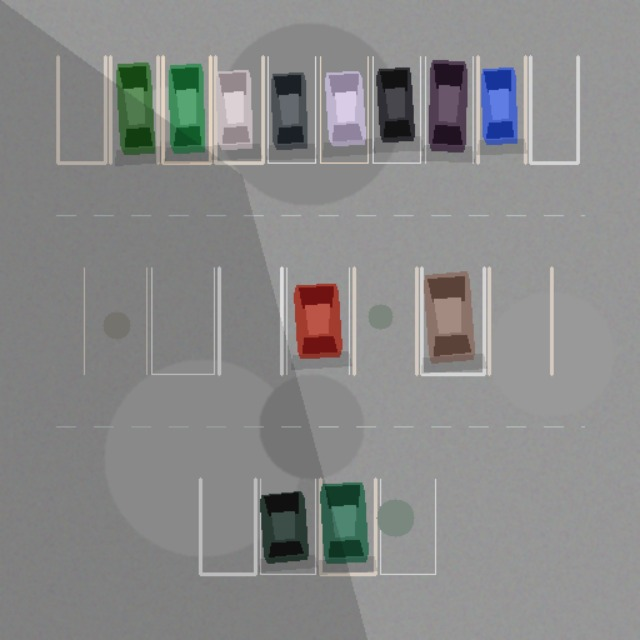space-empty: (151, 268, 214, 374), (84, 268, 146, 374), (219, 268, 281, 374), (354, 268, 416, 374), (489, 268, 551, 374), (200, 479, 255, 574), (380, 479, 435, 574), (57, 56, 105, 162), (530, 56, 577, 162)
space-occupied: (286, 268, 349, 374), (421, 268, 484, 374), (260, 479, 315, 574), (320, 479, 375, 574), (215, 56, 263, 162), (267, 56, 315, 162), (425, 56, 473, 162), (477, 56, 525, 162), (110, 56, 157, 162), (163, 56, 210, 162), (320, 56, 367, 162), (373, 56, 420, 162)
